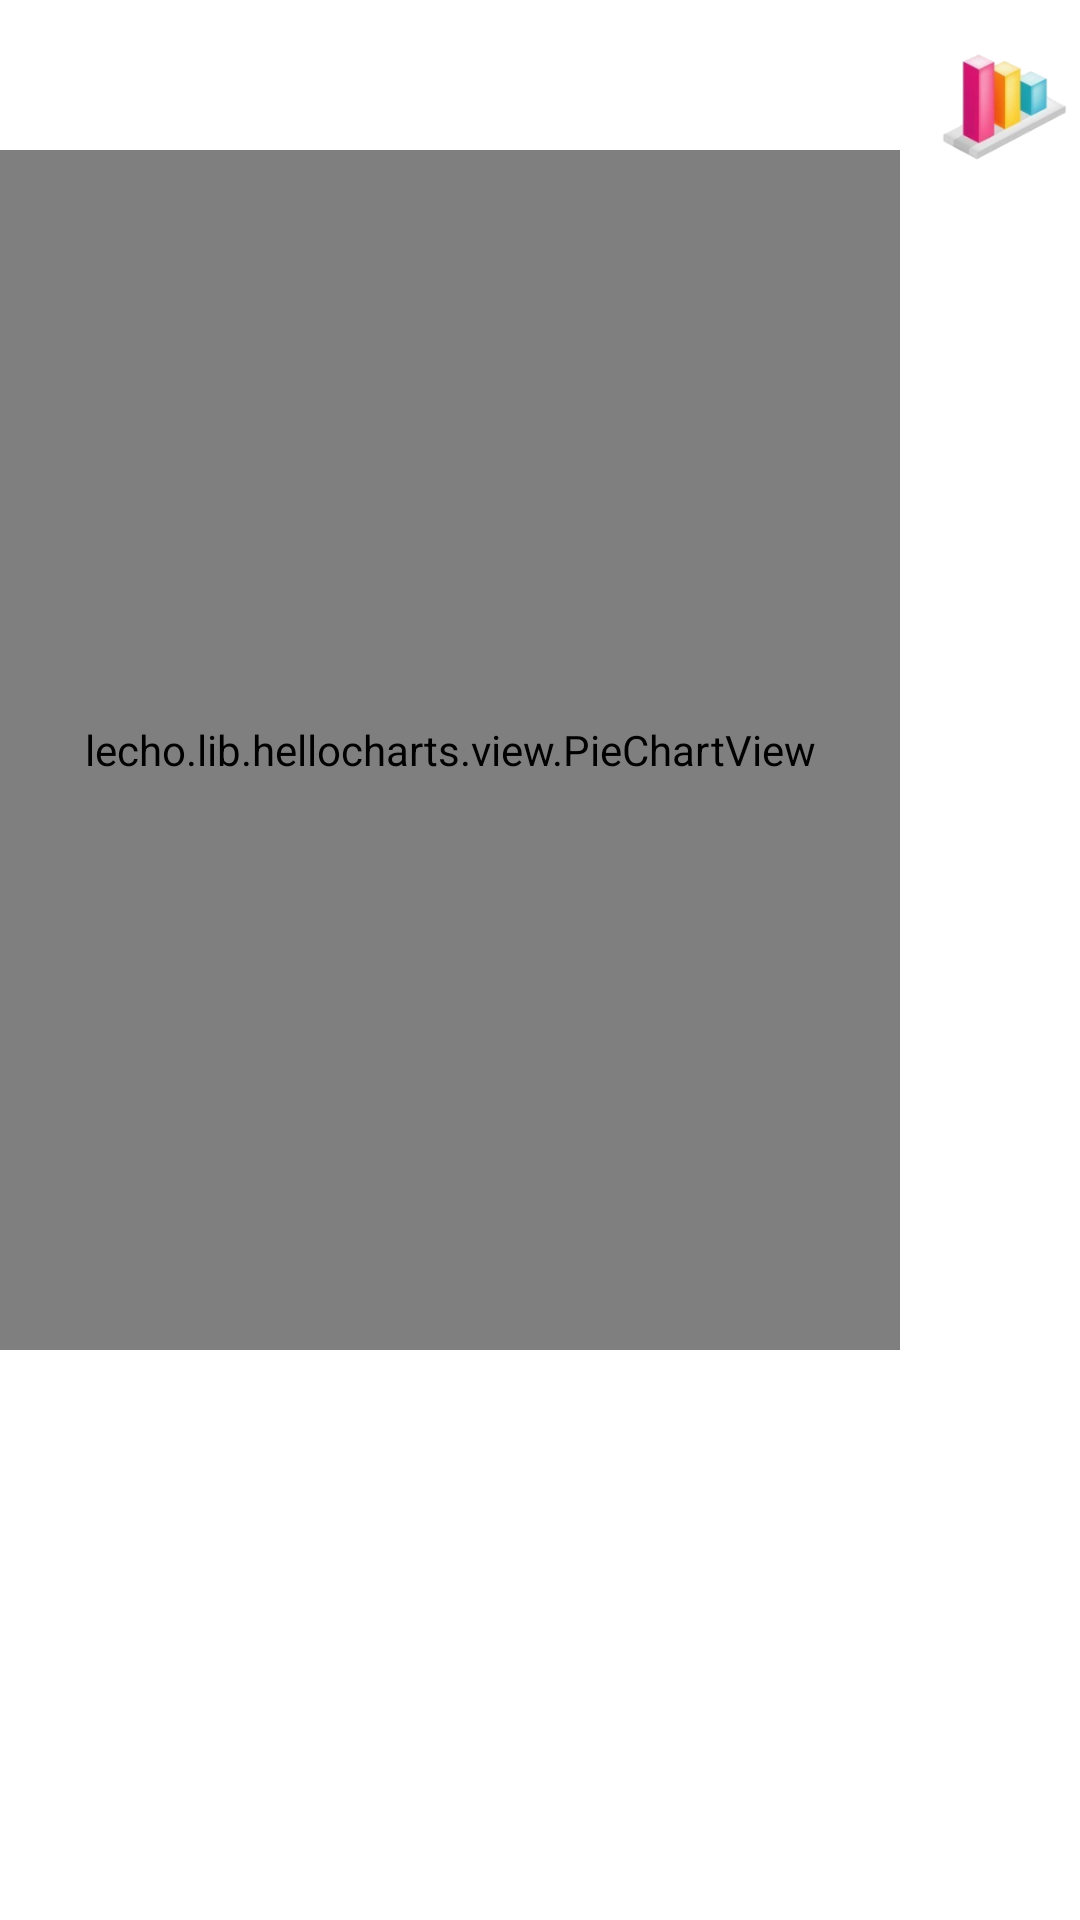

Icons on this 1080w x 1920h Android screen, each with the point to tap as (x=x, y=y):
bar: (x=1004, y=107)
